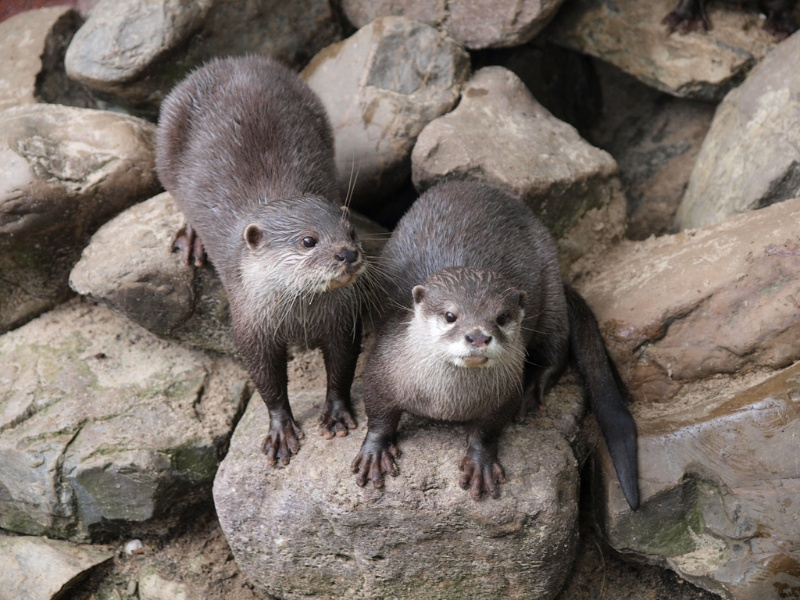minkish: (351, 175, 642, 516), (150, 49, 372, 487)
